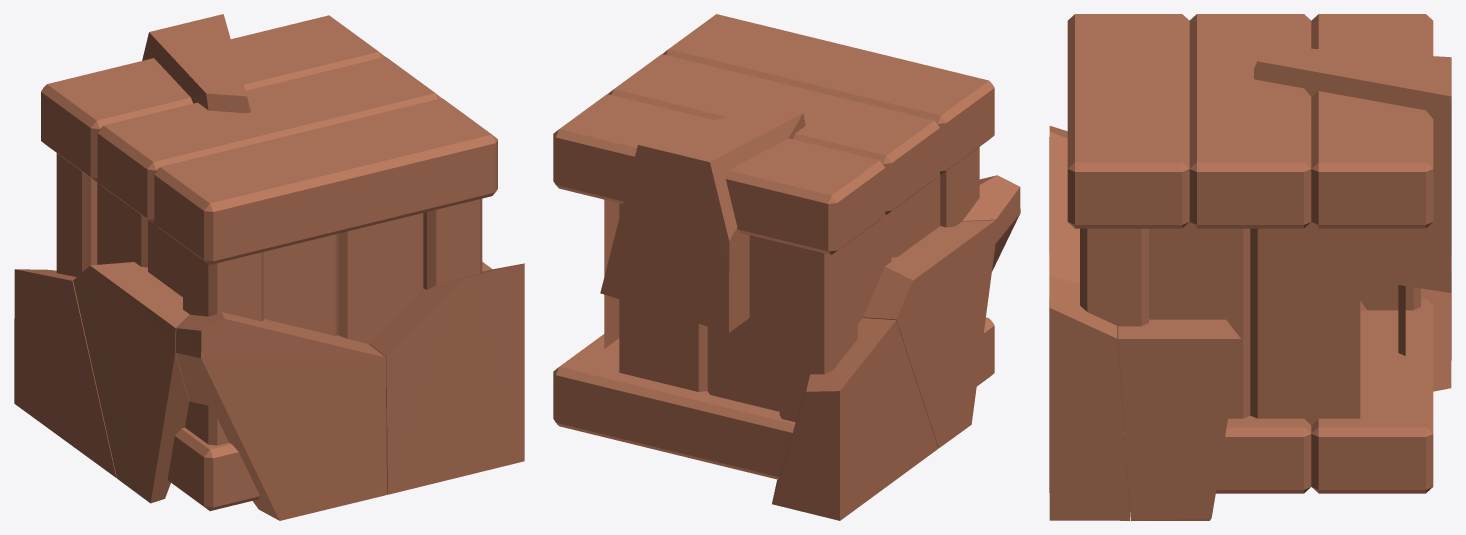
The picture shows the model from 3 angles, left to right: view 1: azimuth 30°, elevation 25°; view 2: azimuth 150°, elevation 25°; view 3: azimuth 270°, elevation 25°; orthographic projection. The views are drawn at different scales.
Parts seen in each view (by area): view 1: platform_wood_1x1x1_cell.015, platform_wood_1x1x1_cell.013, platform_wood_1x1x1_cell.012, platform_wood_1x1x1_cell.017, platform_wood_1x1x1_cell.004, platform_wood_1x1x1_cell.003, platform_wood_1x1x1_cell.006, platform_wood_1x1x1_cell.019, platform_wood_1x1x1_cell.022, platform_wood_1x1x1_cell.020, platform_wood_1x1x1_cell.023; view 2: platform_wood_1x1x1_cell.015, platform_wood_1x1x1_cell.004, platform_wood_1x1x1_cell.017, platform_wood_1x1x1_cell.003, platform_wood_1x1x1_cell.010, platform_wood_1x1x1_cell.006, platform_wood_1x1x1_cell.020, platform_wood_1x1x1_cell.022, platform_wood_1x1x1_cell.021, platform_wood_1x1x1_cell.013, platform_wood_1x1x1_cell, platform_wood_1x1x1_cell.001; view 3: platform_wood_1x1x1_cell.015, platform_wood_1x1x1_cell.003, platform_wood_1x1x1_cell, platform_wood_1x1x1_cell.012, platform_wood_1x1x1_cell.008, platform_wood_1x1x1_cell.004, platform_wood_1x1x1_cell.001, platform_wood_1x1x1_cell.018, platform_wood_1x1x1_cell.024, platform_wood_1x1x1_cell.013, platform_wood_1x1x1_cell.006, platform_wood_1x1x1_cell.010.
Boxes of the visible parts, bbox=[...] form: platform_wood_1x1x1_cell.015: bbox=[41, 14, 497, 264]; platform_wood_1x1x1_cell.013: bbox=[176, 213, 423, 520]; platform_wood_1x1x1_cell.012: bbox=[369, 198, 524, 494]; platform_wood_1x1x1_cell.017: bbox=[73, 182, 263, 503]; platform_wood_1x1x1_cell.004: bbox=[14, 269, 259, 510]; platform_wood_1x1x1_cell.003: bbox=[168, 262, 492, 510]; platform_wood_1x1x1_cell.006: bbox=[79, 58, 189, 110]; platform_wood_1x1x1_cell.019: bbox=[183, 249, 263, 445]; platform_wood_1x1x1_cell.022: bbox=[56, 153, 85, 276]; platform_wood_1x1x1_cell.020: bbox=[56, 168, 97, 276]; platform_wood_1x1x1_cell.023: bbox=[126, 98, 207, 119]; platform_wood_1x1x1_cell.015: bbox=[553, 14, 994, 332]; platform_wood_1x1x1_cell.004: bbox=[553, 237, 938, 520]; platform_wood_1x1x1_cell.017: bbox=[857, 147, 995, 448]; platform_wood_1x1x1_cell.003: bbox=[553, 317, 994, 479]; platform_wood_1x1x1_cell.010: bbox=[619, 203, 779, 411]; platform_wood_1x1x1_cell.006: bbox=[726, 138, 845, 238]; platform_wood_1x1x1_cell.020: bbox=[782, 240, 857, 407]; platform_wood_1x1x1_cell.022: bbox=[779, 236, 857, 421]; platform_wood_1x1x1_cell.021: bbox=[857, 175, 940, 322]; platform_wood_1x1x1_cell.013: bbox=[962, 175, 1020, 271]; platform_wood_1x1x1_cell: bbox=[604, 199, 619, 348]; platform_wood_1x1x1_cell.001: bbox=[604, 200, 619, 334]; platform_wood_1x1x1_cell.015: bbox=[1067, 14, 1451, 292]; platform_wood_1x1x1_cell.003: bbox=[1118, 299, 1433, 520]; platform_wood_1x1x1_cell: bbox=[1149, 222, 1360, 424]; platform_wood_1x1x1_cell.012: bbox=[1049, 228, 1148, 520]; platform_wood_1x1x1_cell.008: bbox=[1149, 222, 1360, 425]; platform_wood_1x1x1_cell.004: bbox=[1124, 255, 1451, 493]; platform_wood_1x1x1_cell.001: bbox=[1149, 223, 1360, 418]; platform_wood_1x1x1_cell.018: bbox=[1067, 113, 1290, 197]; platform_wood_1x1x1_cell.024: bbox=[1149, 224, 1358, 418]; platform_wood_1x1x1_cell.013: bbox=[1049, 126, 1079, 283]; platform_wood_1x1x1_cell.006: bbox=[1322, 31, 1433, 55]; platform_wood_1x1x1_cell.010: bbox=[1398, 285, 1405, 355].
Size of the model in its own units: 110 by 110 by 110.
